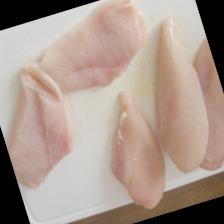chicken: (125, 14, 224, 177), (15, 0, 160, 107), (88, 82, 176, 216), (0, 63, 86, 195)
